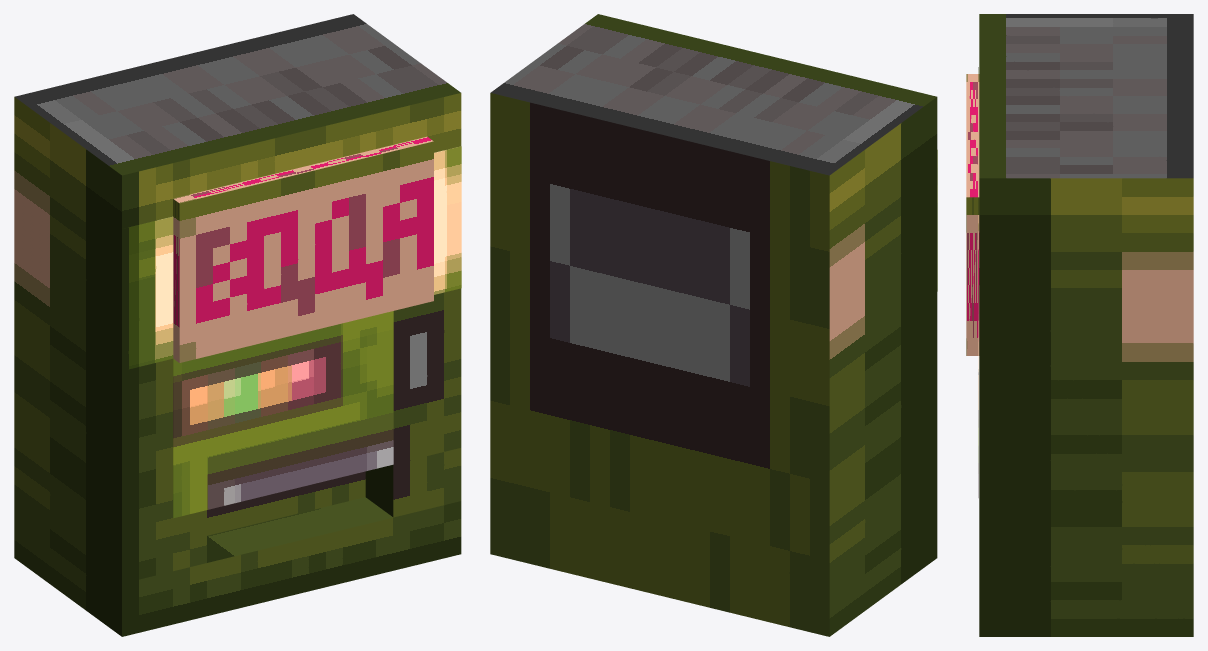
File: vending_sovietsoda.glb
3 views of the same model, side by side, from view 1: azimuth 30°, elevation 25°; view 2: azimuth 150°, elevation 25°; view 3: azimuth 270°, elevation 25° (orthographic).
Visible parts, largest first — view 1: vending_sovietsoda_Cabinet, vending_sovietsoda, vending_sovietsoda_Raised_Sign, vending_sovietsoda_Delivery_Flap; view 2: vending_sovietsoda_Cabinet; view 3: vending_sovietsoda_Cabinet, vending_sovietsoda_Raised_Sign.
Boxes of the visible parts, <box> form: vending_sovietsoda_Cabinet: <box>14,14,461,636</box>; vending_sovietsoda: <box>122,146,461,518</box>; vending_sovietsoda_Raised_Sign: <box>173,136,433,362</box>; vending_sovietsoda_Delivery_Flap: <box>207,471,365,535</box>; vending_sovietsoda_Cabinet: <box>490,14,937,636</box>; vending_sovietsoda_Cabinet: <box>979,14,1193,636</box>; vending_sovietsoda_Raised_Sign: <box>966,74,979,355</box>.
Size of the model in its own units: 1.2 by 1.56 by 0.7.
3 materials, 3 textured.
